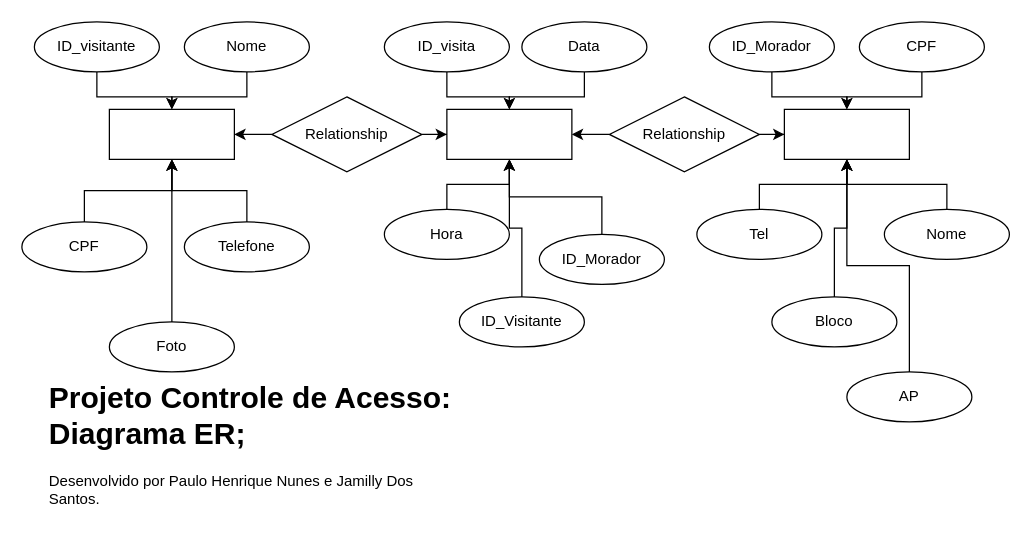
Some shapes in this 1031 by 548 pixel diagram are drawn without their labels. Here are the shapes that lost their labels. From the top down, the box of each, then its label:
(108, 108, 234, 159): Visitante
(446, 108, 572, 159): Visita
(783, 108, 909, 159): Morador
